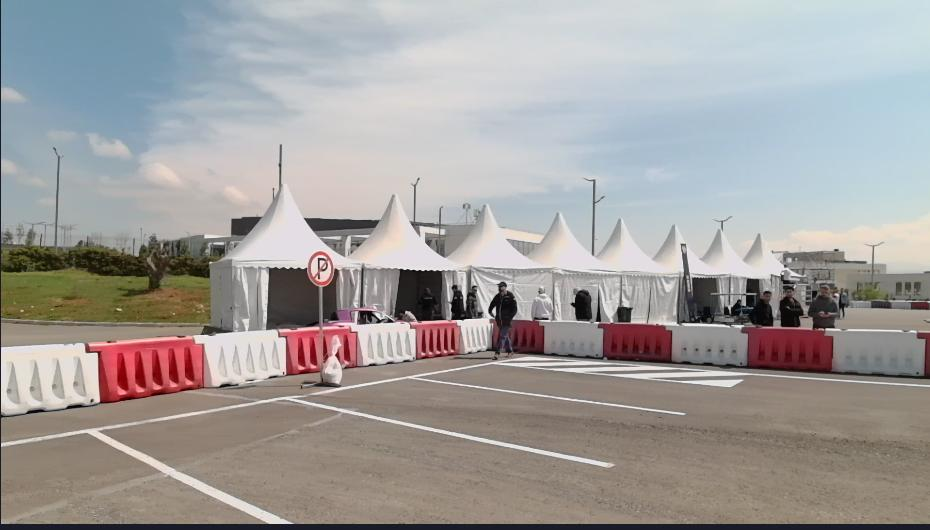nesne: (0, 351, 759, 525), (0, 353, 929, 448), (0, 314, 495, 416), (294, 399, 616, 469), (89, 431, 297, 526), (411, 376, 688, 415), (491, 356, 751, 390), (84, 332, 206, 401), (0, 341, 99, 416), (193, 327, 288, 387), (824, 326, 925, 375), (741, 324, 833, 374), (277, 323, 357, 375), (670, 323, 748, 365), (350, 322, 417, 366), (485, 280, 518, 361), (599, 321, 671, 358), (410, 318, 461, 358), (541, 321, 602, 352), (805, 281, 842, 326), (458, 317, 496, 353), (304, 248, 335, 286), (320, 332, 342, 385), (509, 320, 544, 352), (778, 285, 805, 326), (748, 288, 775, 325), (569, 284, 594, 322), (530, 283, 554, 322), (449, 282, 464, 320), (462, 285, 477, 318)
